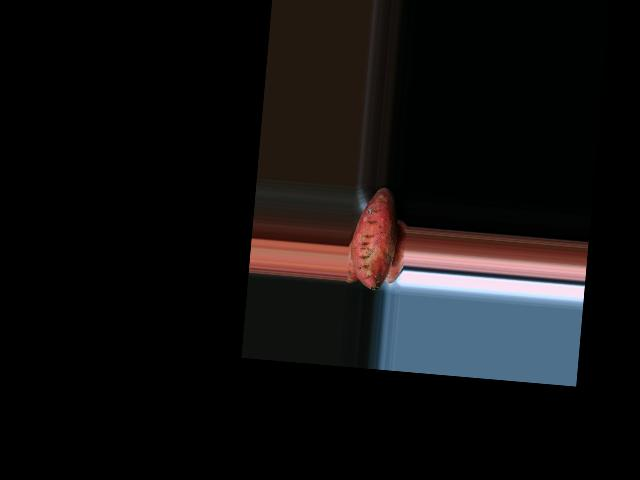sweet_potato: (351, 186, 396, 291)
